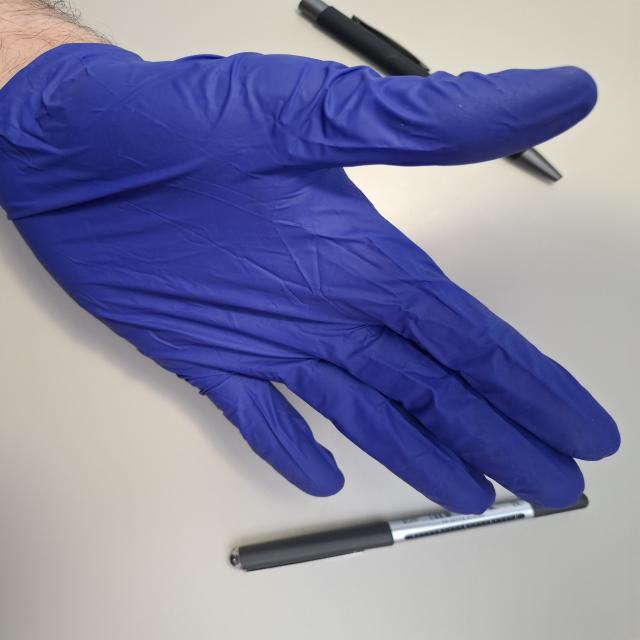glove_on: (0, 35, 624, 519)
